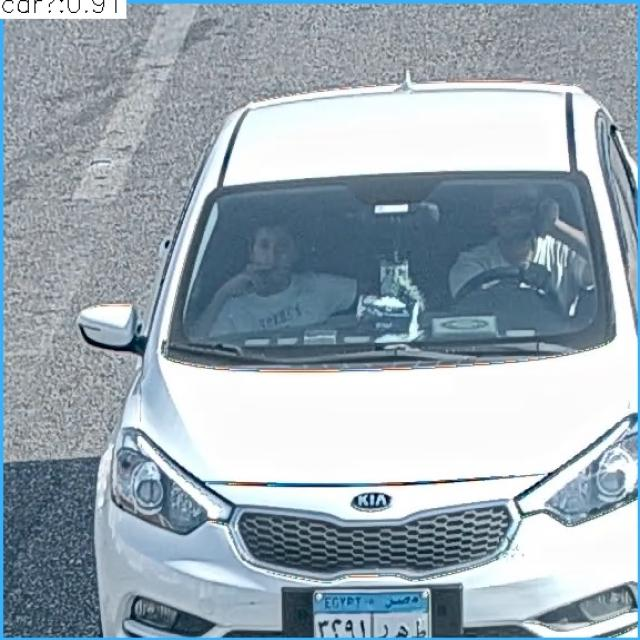windshield: (172, 179, 611, 344)
